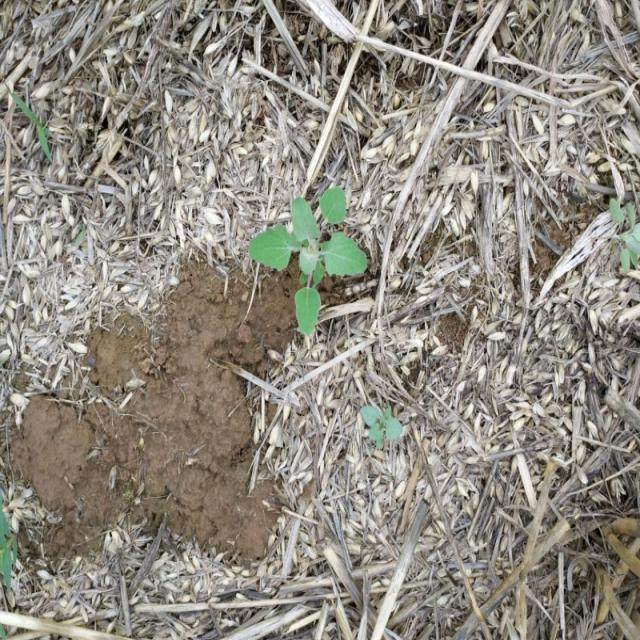goosefoots: (232, 194, 411, 328)
